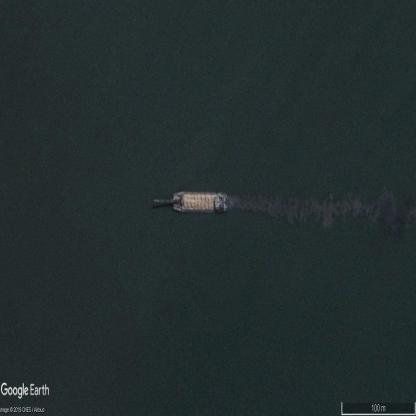ship: (155, 189, 229, 220)
